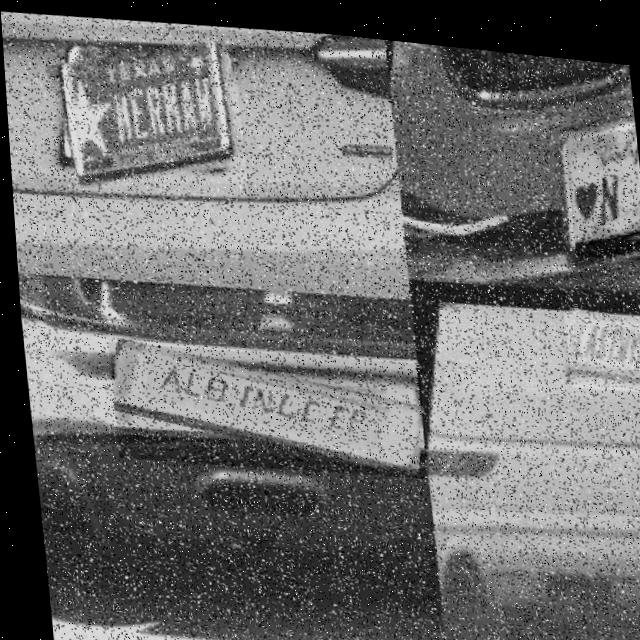LicensePlate: (108, 342, 418, 469), (62, 34, 243, 187), (574, 118, 640, 243), (559, 294, 640, 382)
